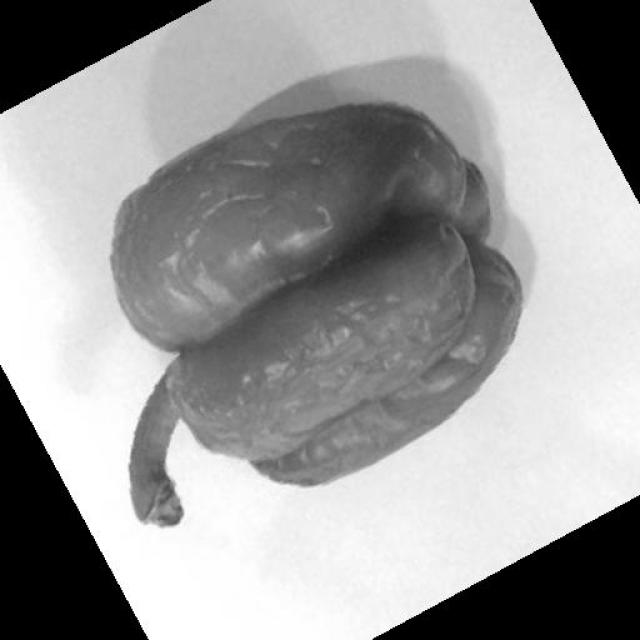Stale_Capsicum: (102, 84, 537, 474)
